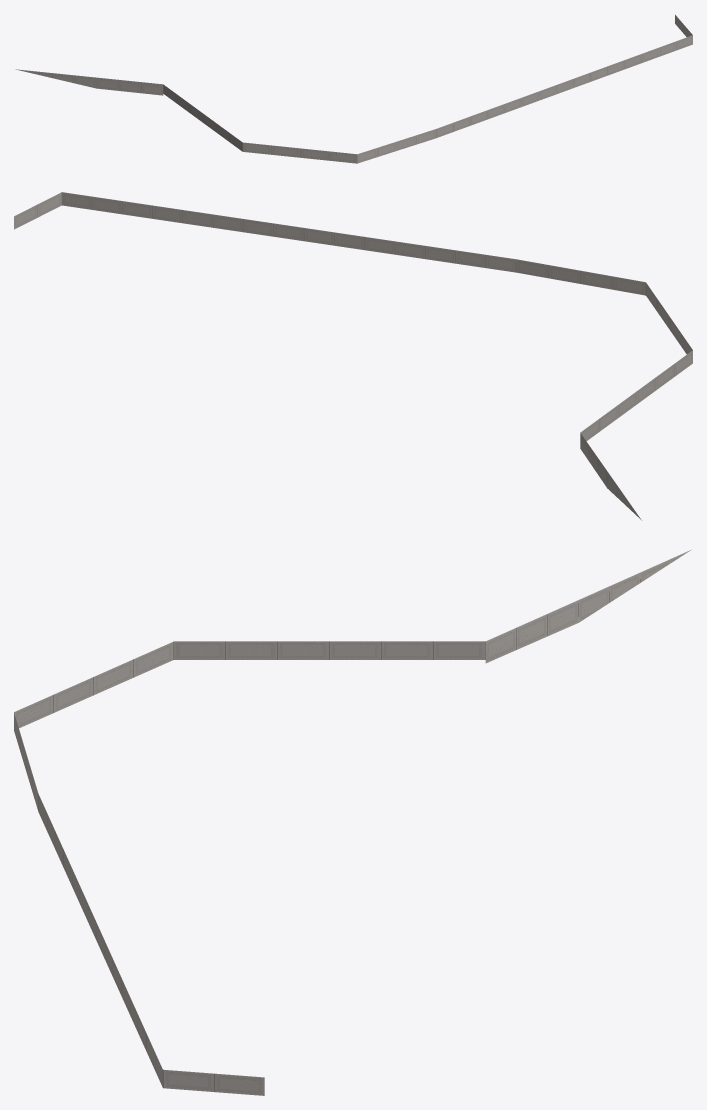
The model's file is kd_stage_135ebf_1_51.glb.
The picture shows the model from 3 angles, top to bottom: view 1: azimuth 30°, elevation 25°; view 2: azimuth 150°, elevation 25°; view 3: azimuth 270°, elevation 25°; orthographic projection. The views are drawn at different scales.
Parts seen in each view (by area): view 1: kd_stage_135ebf_1_51; view 2: kd_stage_135ebf_1_51; view 3: kd_stage_135ebf_1_51.
Boxes of the visible parts, left/top/right/bottom form: kd_stage_135ebf_1_51: left=15, top=14, right=692, bottom=163; kd_stage_135ebf_1_51: left=14, top=192, right=692, bottom=520; kd_stage_135ebf_1_51: left=14, top=550, right=690, bottom=1095.
Size of the model in its own units: 30.62 by 0.6084 by 16.62.
Materials: 1 (1 with a texture image).
